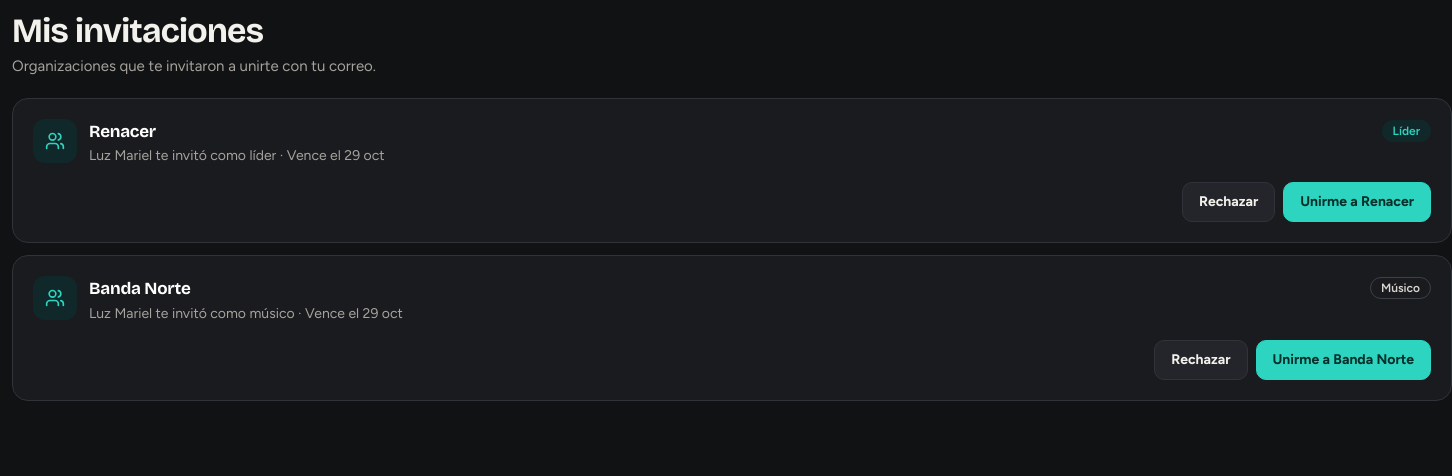
Scenario: MyInvitationsPage › muestra el error si la invitación ya venció
Click the button "Unirme a Renacer" at {"x": 1357, "y": 202}, box [1283,182,1431,222]
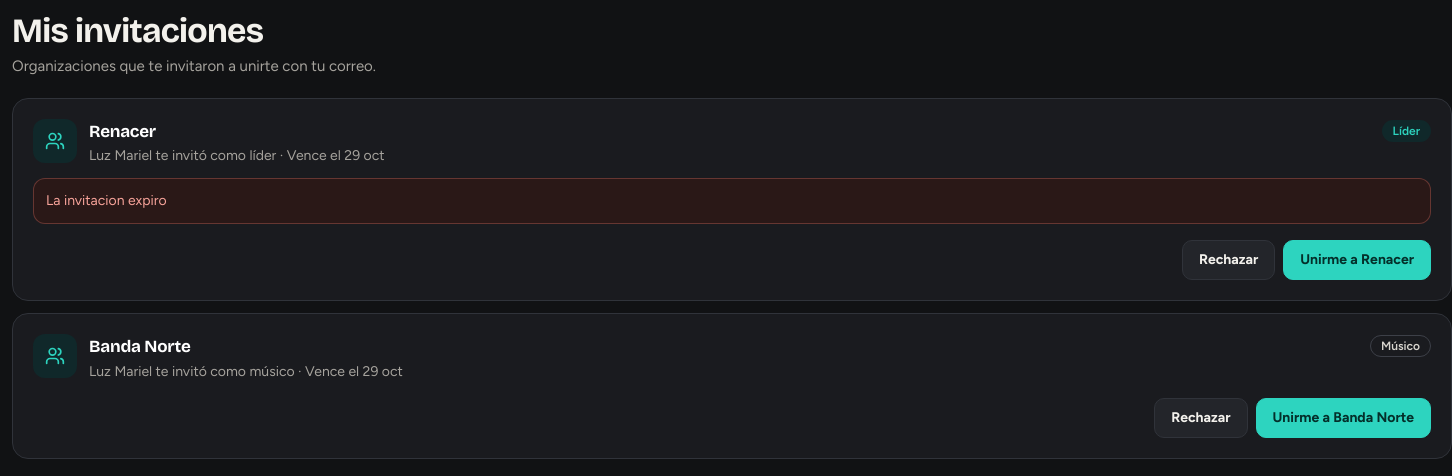
Expected: the message reads "La invitacion expiro", [46,192,167,209]
